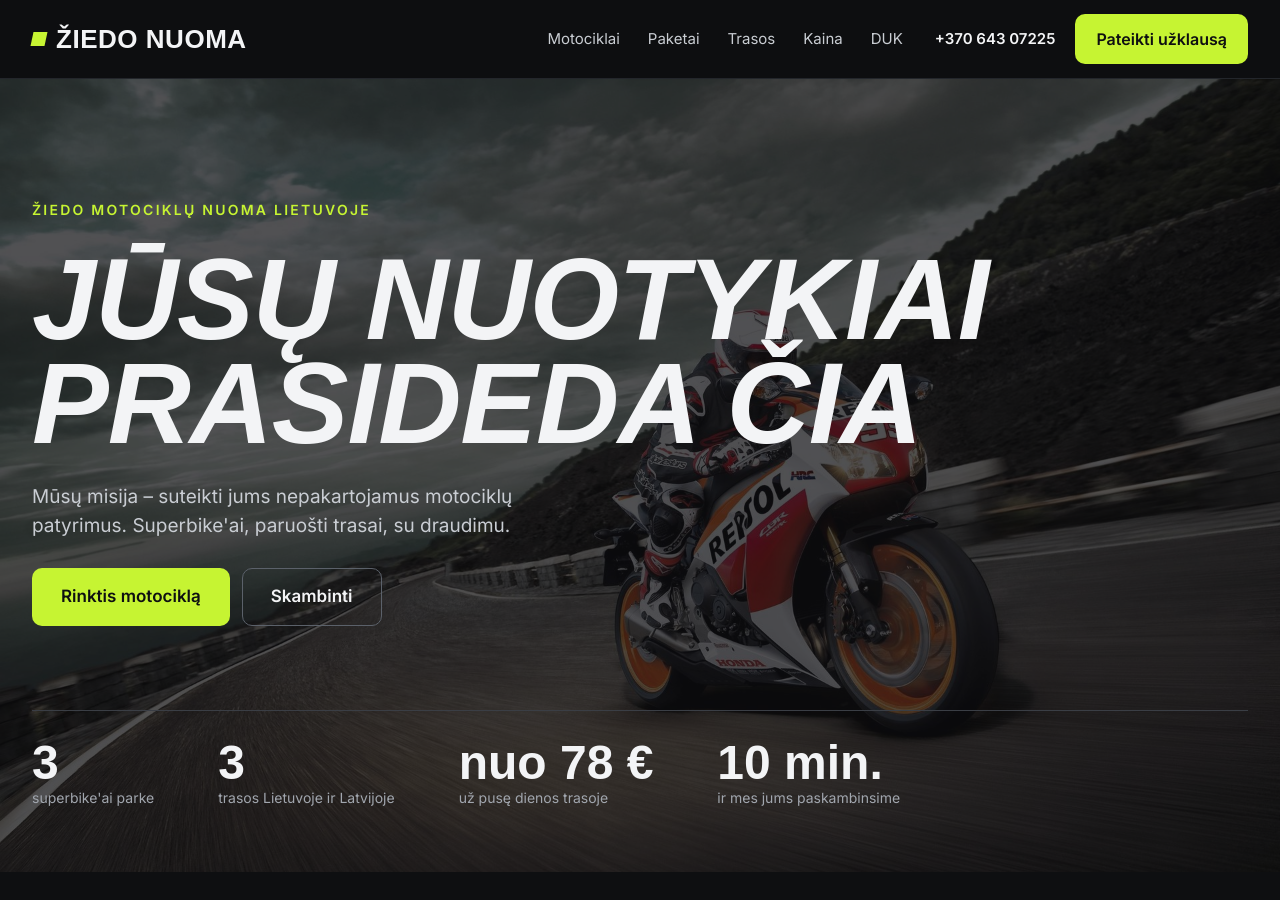
Test case: enquiry form validates required fields
Click the button "Pateikti užklausą". click: (1162, 39)
box: [1075,14,1248,64]
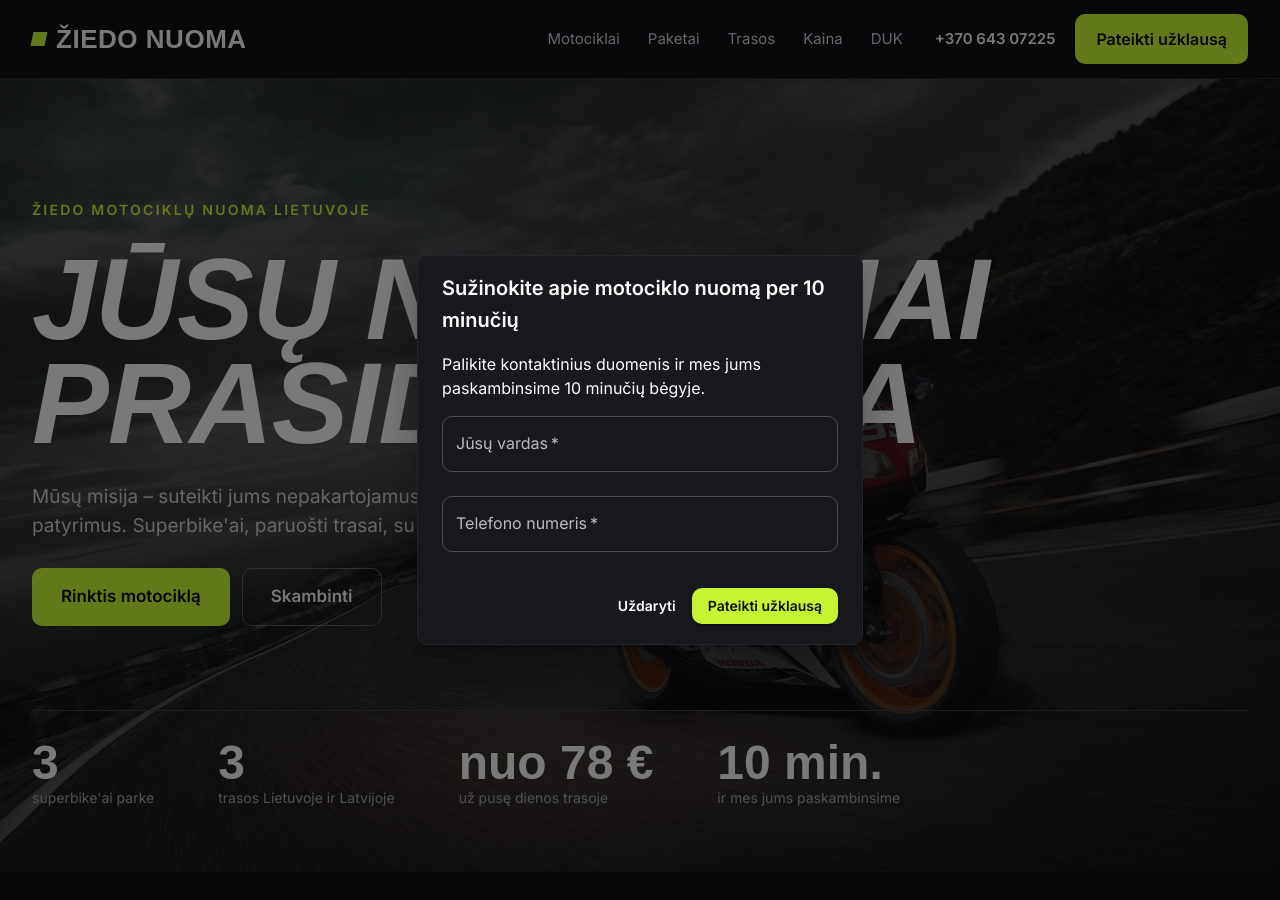
Click the button "Pateikti užklausą". click: (765, 606)
box: [692,588,838,624]
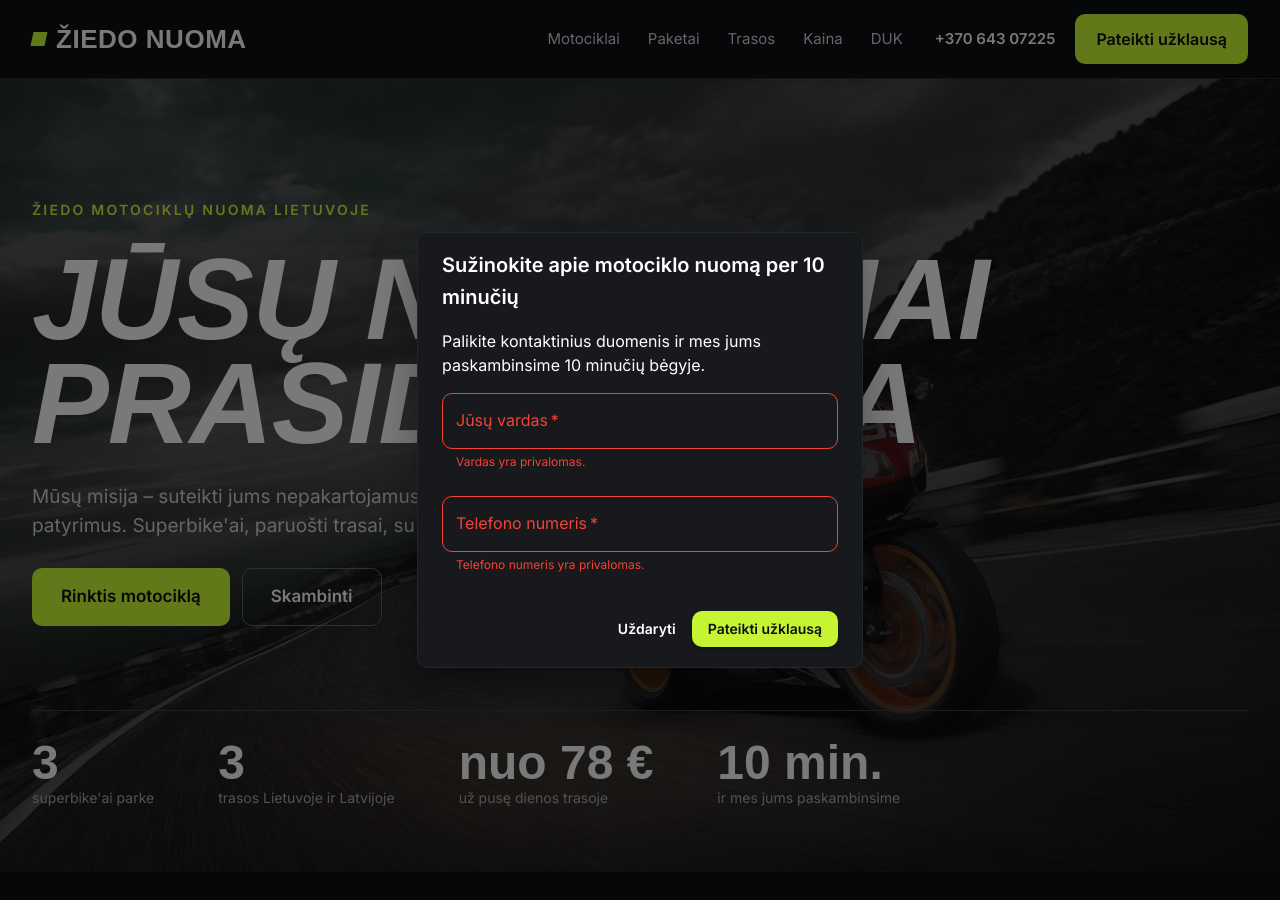
Expected: the text "Vardas yra privalomas." is shown, [456,454,585,469]
Expected: the text "Telefono numeris yra privalomas." is shown, [456,557,644,572]
